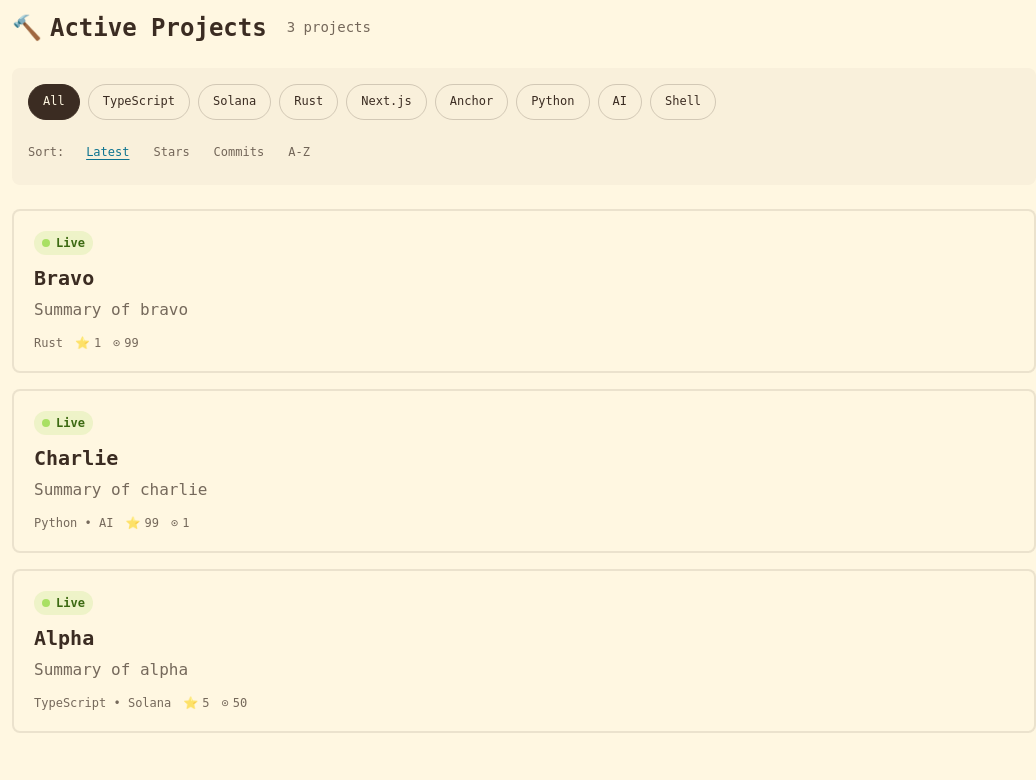
Test: FilterSort island › no results › shows the no-results message and 0 counter when a tech matches nothing
Note: Anchor is not in any fixture's technologies
Click the button "Anchor".
click(472, 102)  # box [435,84,508,120]
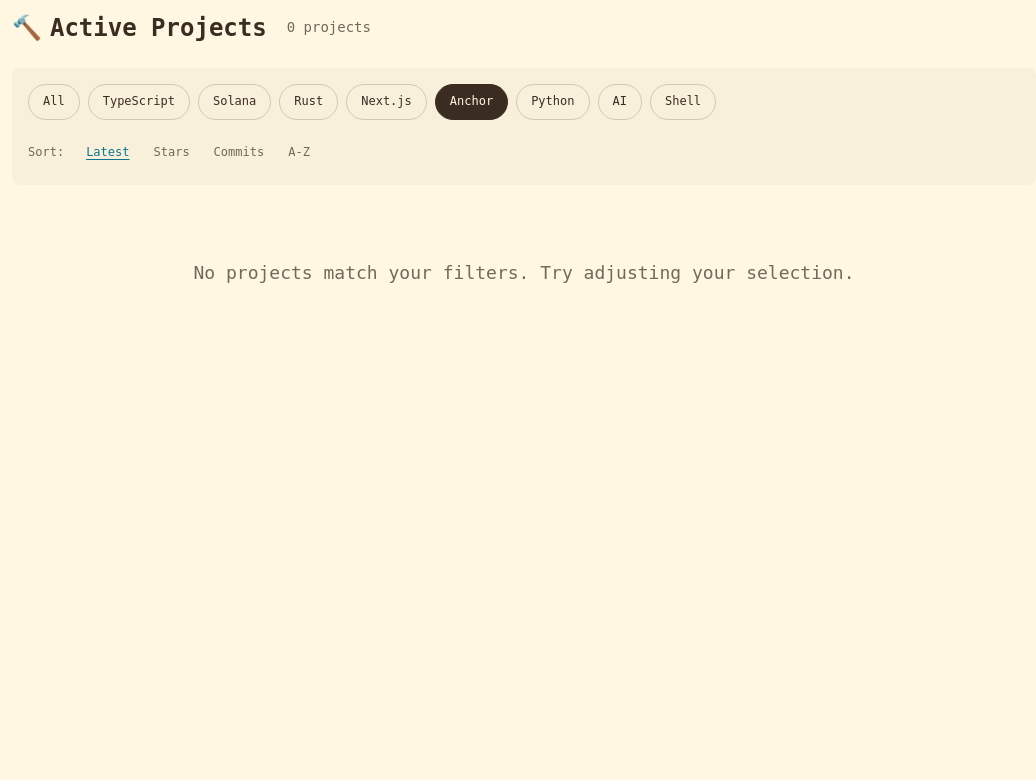
Expected: the text with class "work-counter" reads "0 projects", [287,19,371,35]
